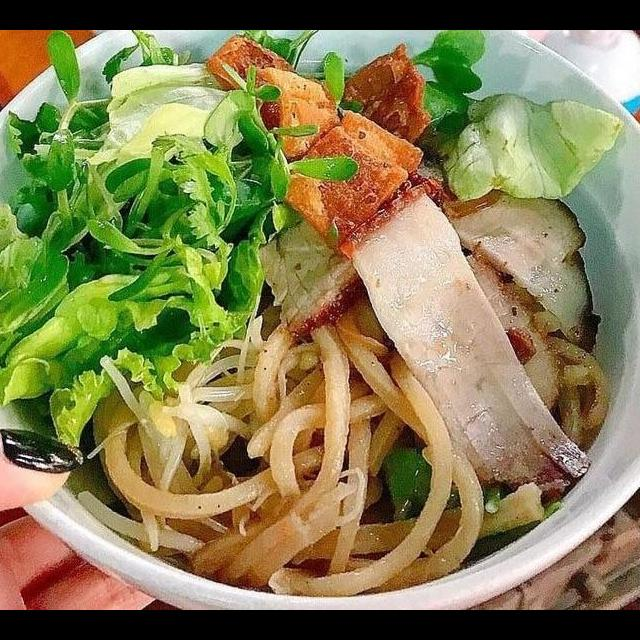banh da: (274, 105, 426, 262), (195, 31, 343, 163), (328, 40, 434, 154)
mi: (71, 289, 549, 605), (522, 304, 613, 460)
thit heo: (329, 177, 595, 499), (432, 177, 605, 358), (248, 210, 370, 349)
